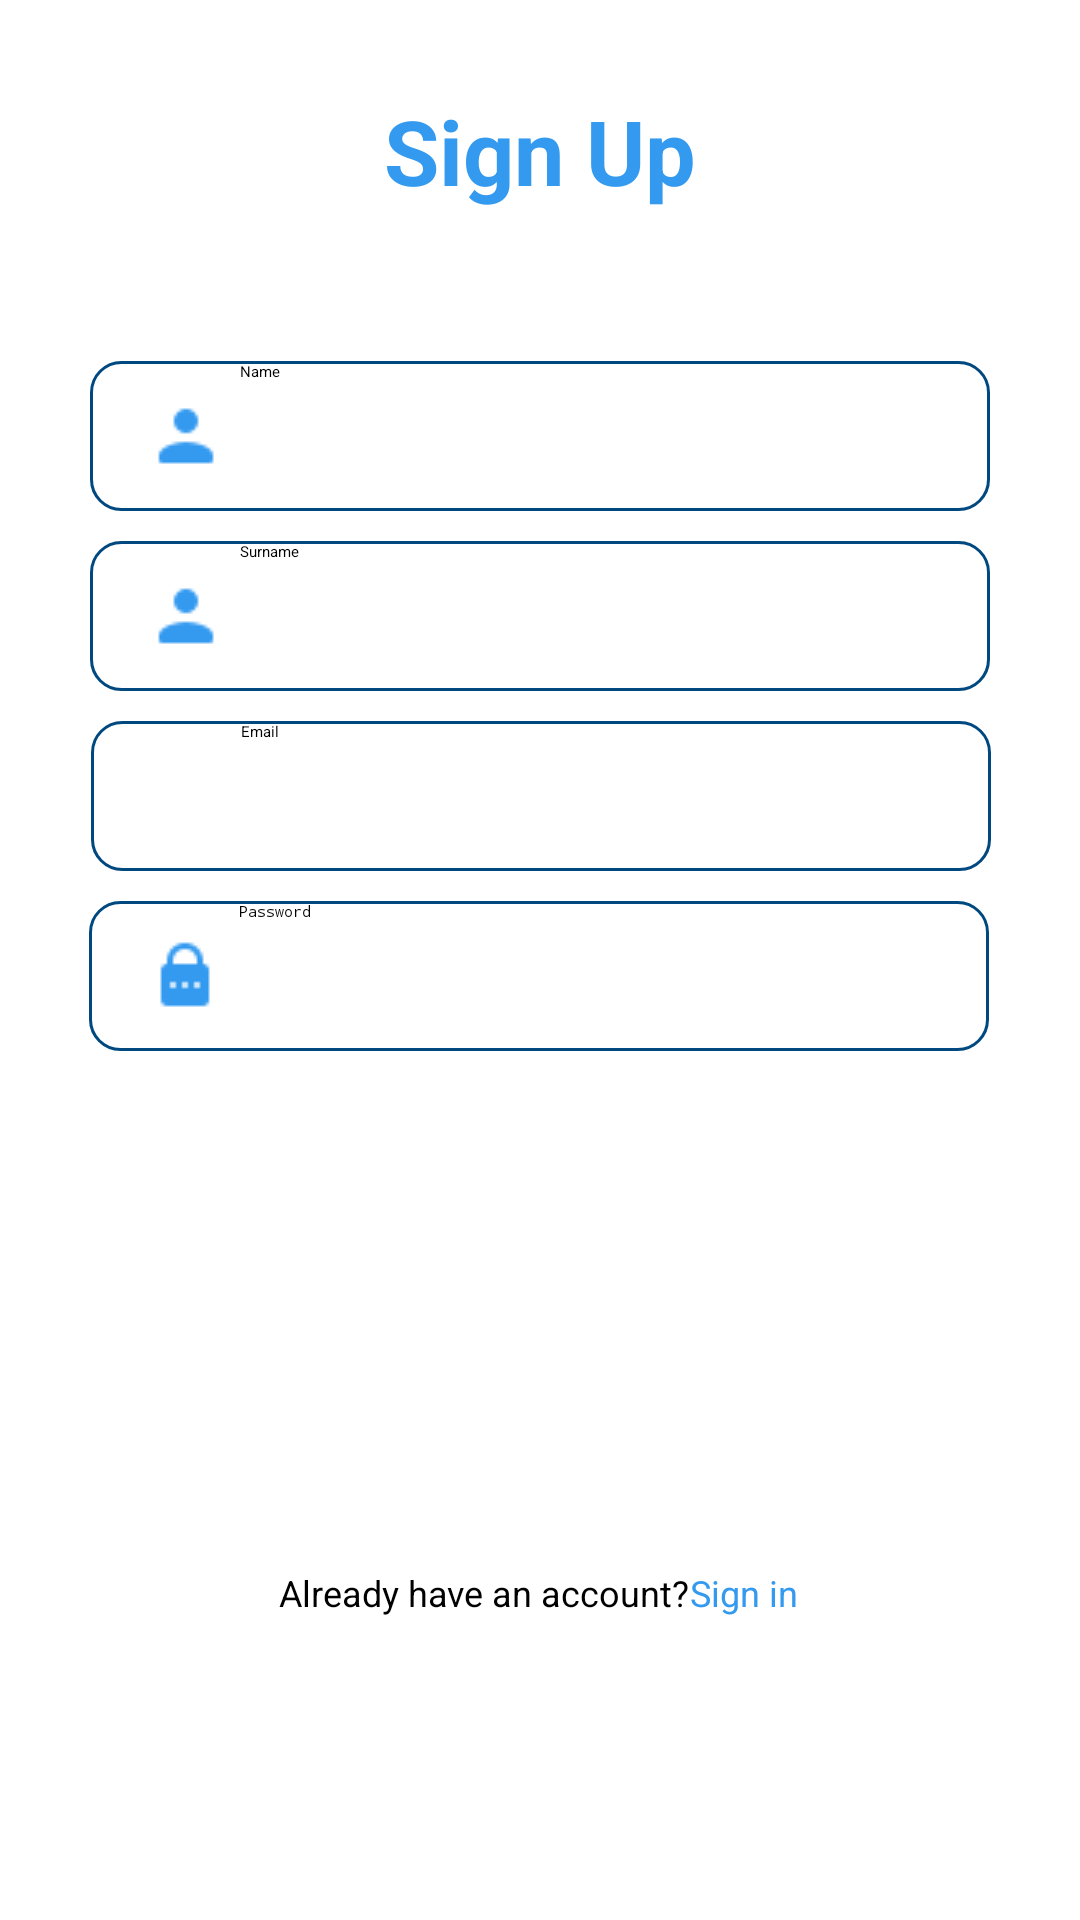

Named icons in this screenshot (1080w x 1920h) and their bounding boxes, (x1, y1, x2, y2):
user: (158, 408, 214, 464), (158, 588, 214, 644)
